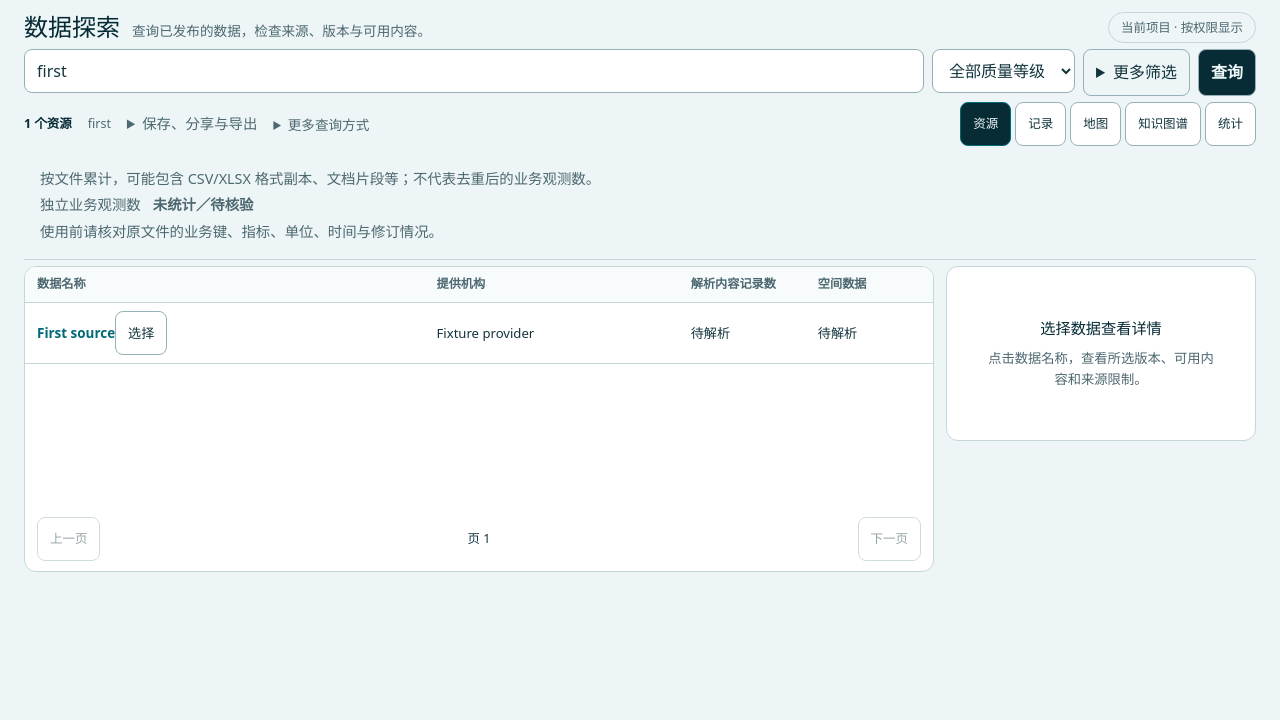
Scenario: exploration query navigation › clears selected data on an authority failure (401)
This screenshot has width=1280, height=720.
Click the button with aria-label "First source".
click(141, 333)  # box [115,311,167,355]
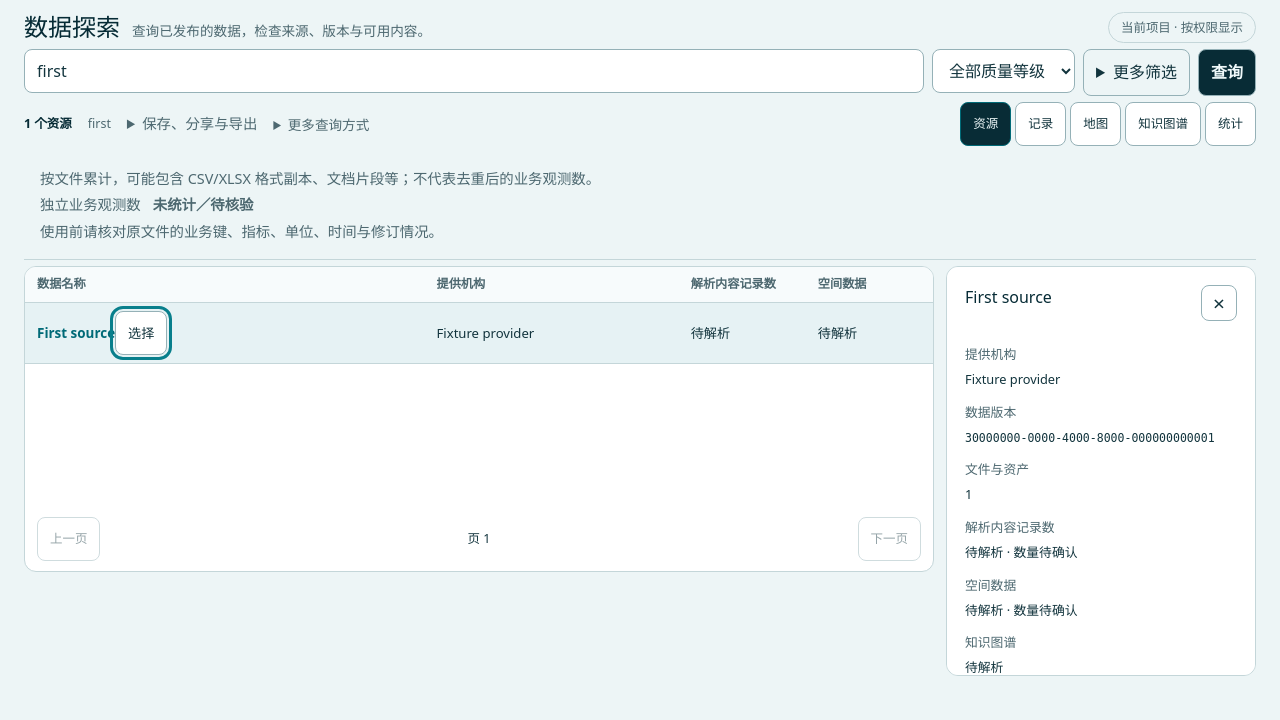
Click the button "查询".
click(1227, 73)  # box [1198,49,1256,96]
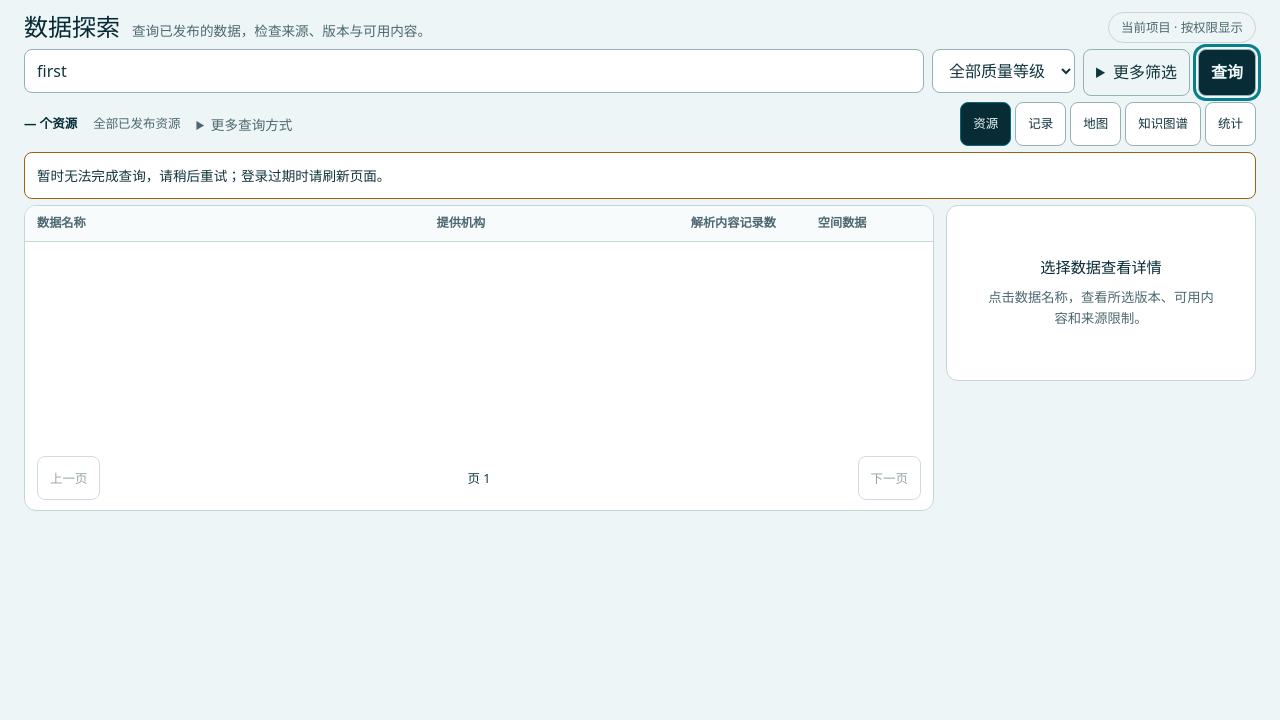
expect the message "暂时无法完成查询，请稍后重试；登录过期时请刷新页面。" is shown: met, box [24,152,1256,199]
expect the link "First source" is gone: met
expect the cell with test id "explorer-inspector" no longer shows "Fixture provider": met
